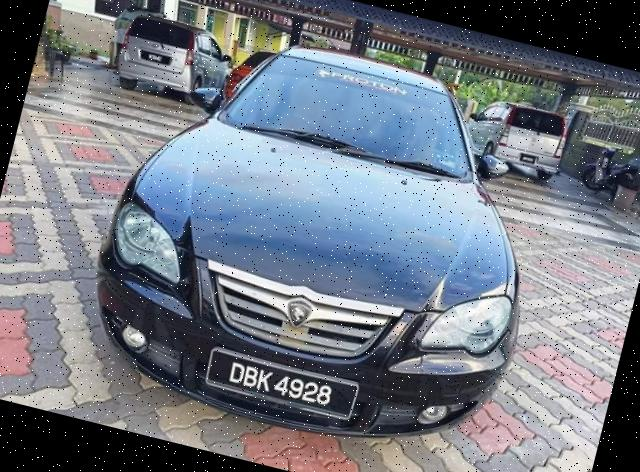License_Plate: (209, 351, 363, 423)
car: (68, 1, 580, 470)
